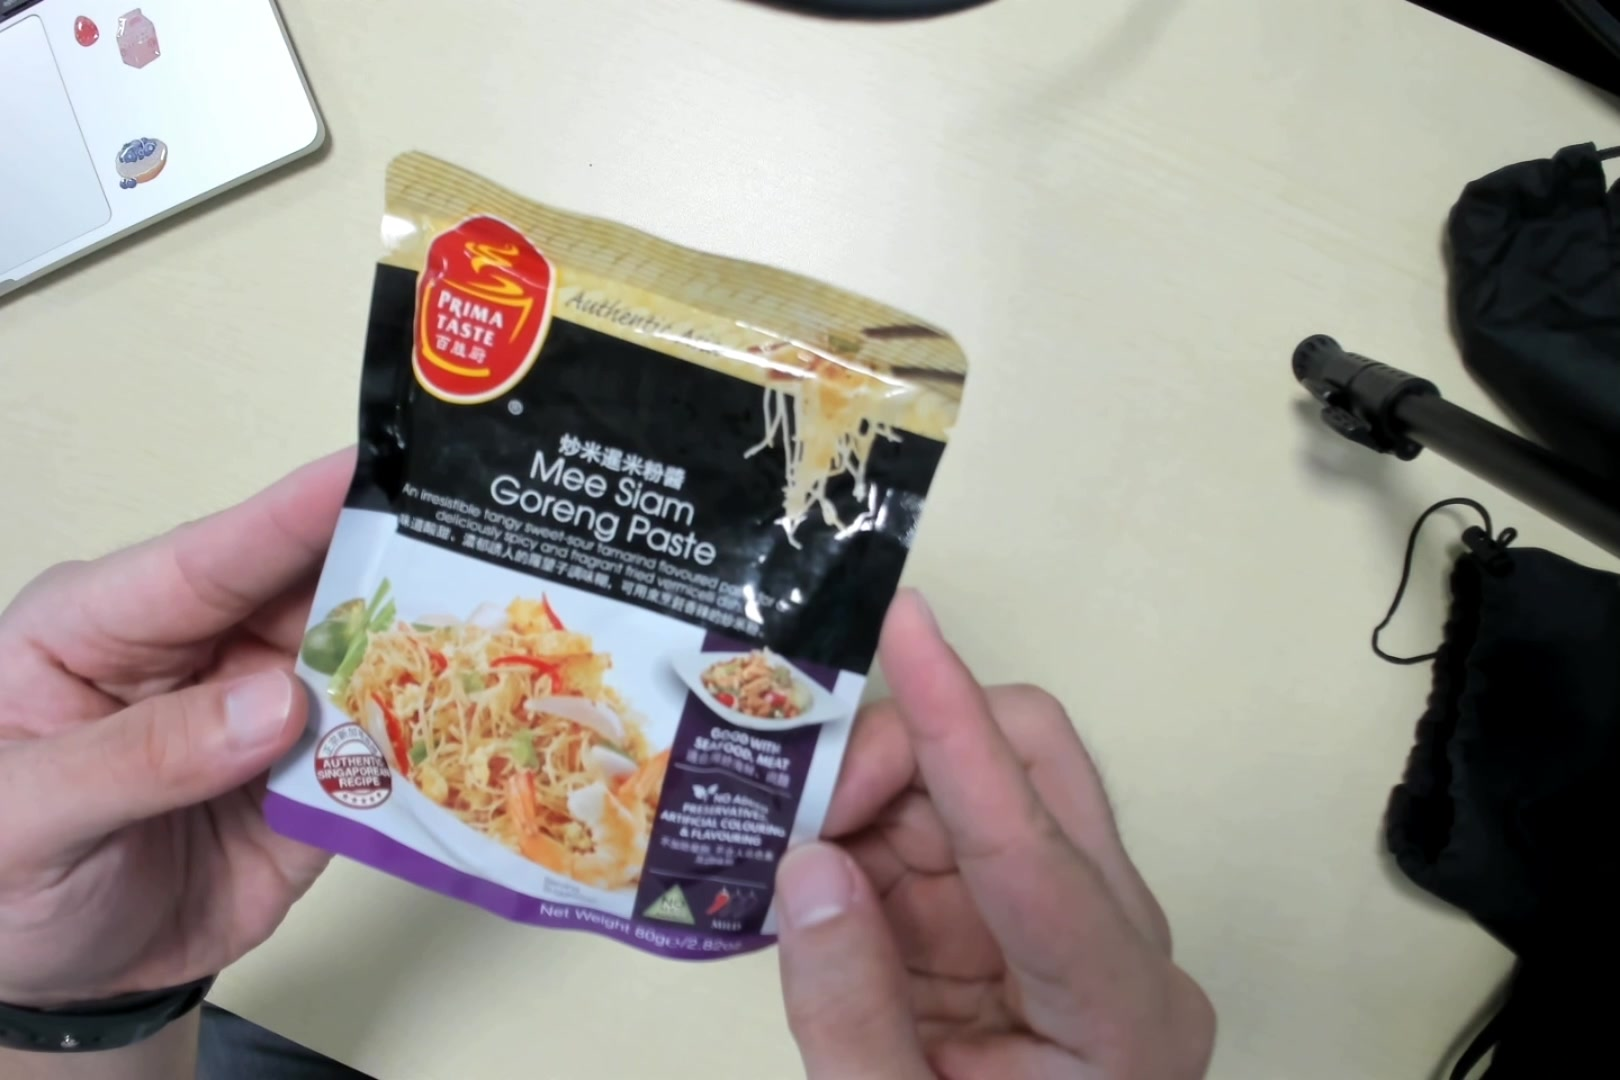CurryPastePowderSauce_0-99g_NonHalal_NonHealthy: (286, 180, 909, 959)
